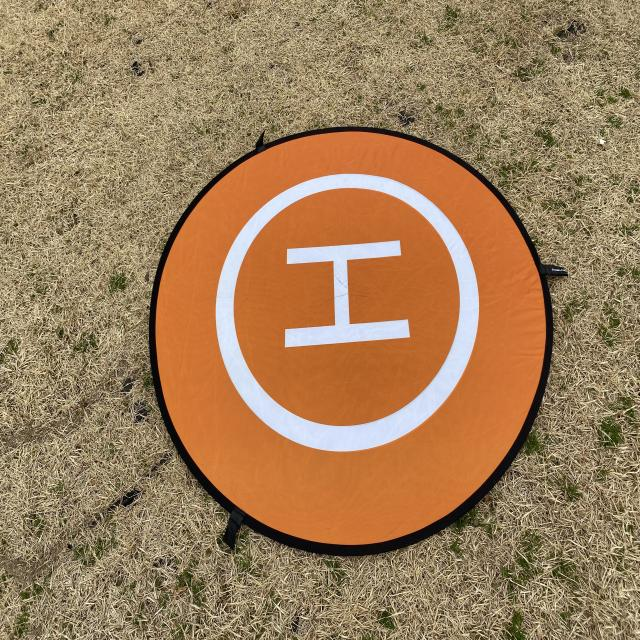helipad: (214, 172, 481, 454)
